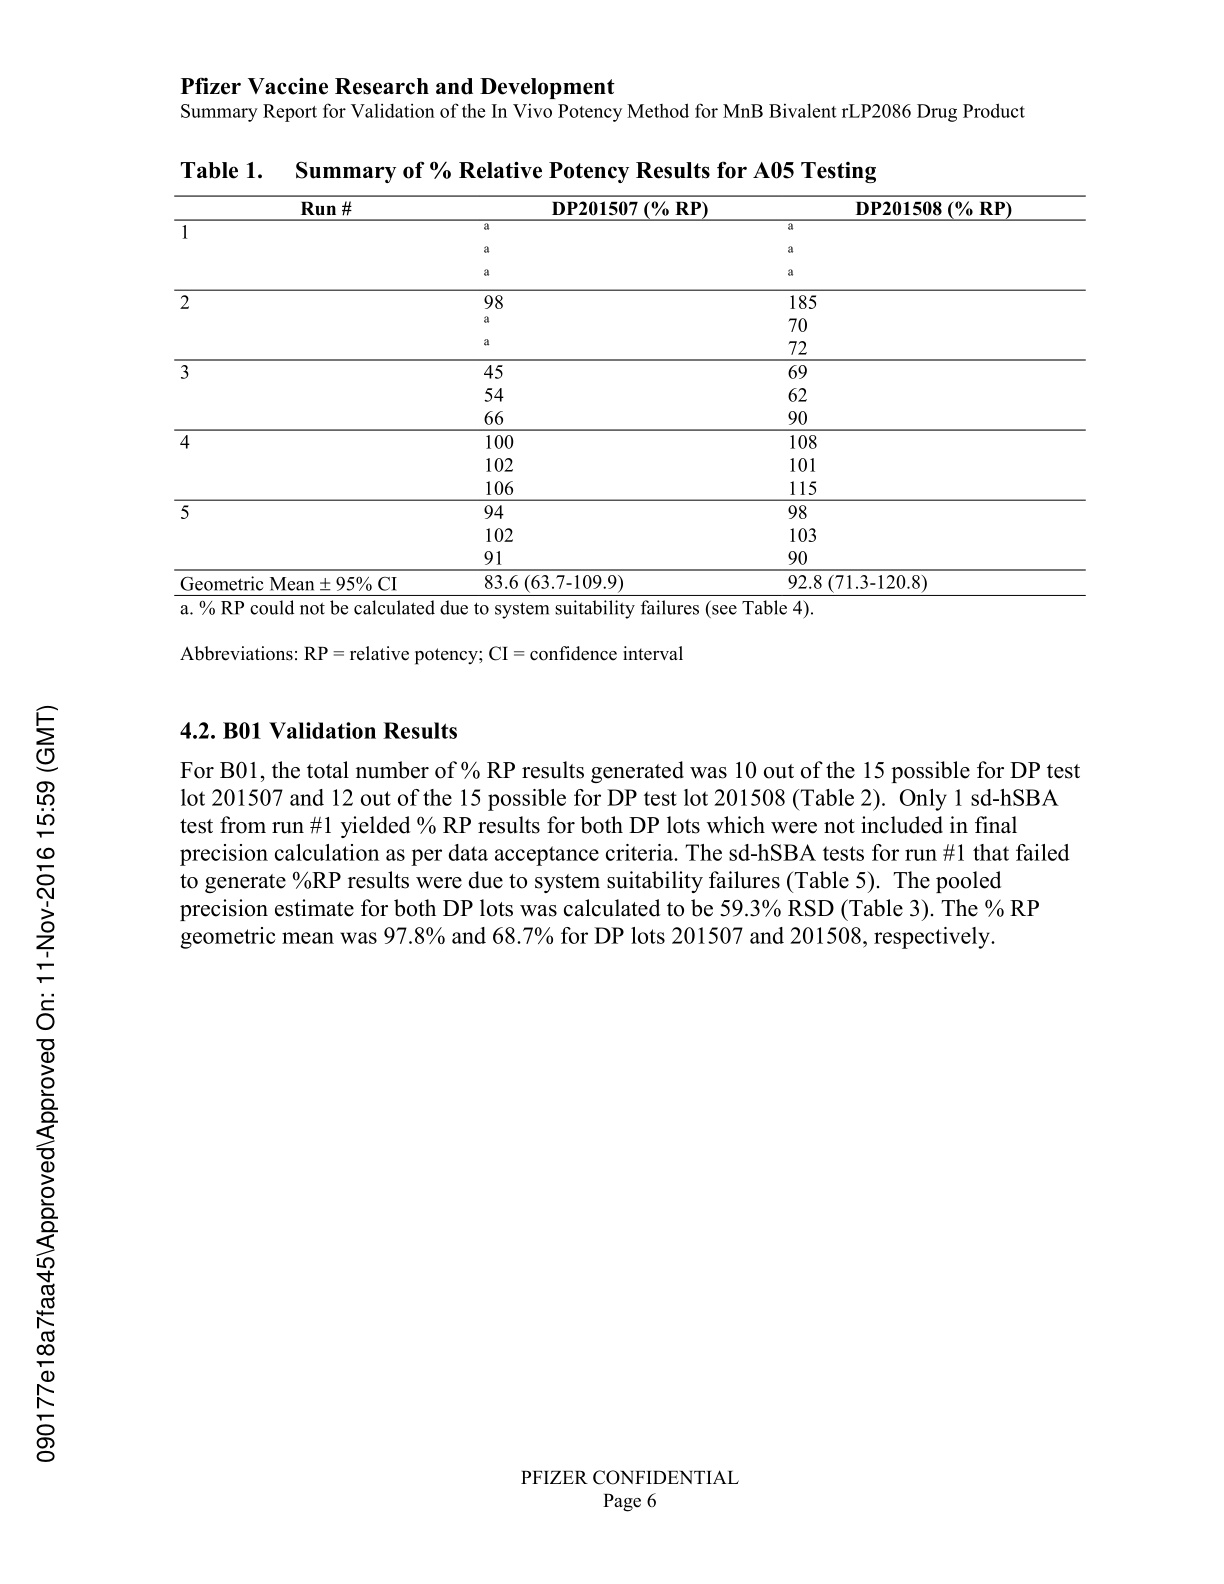partial_lined: (172, 193, 1089, 598)
